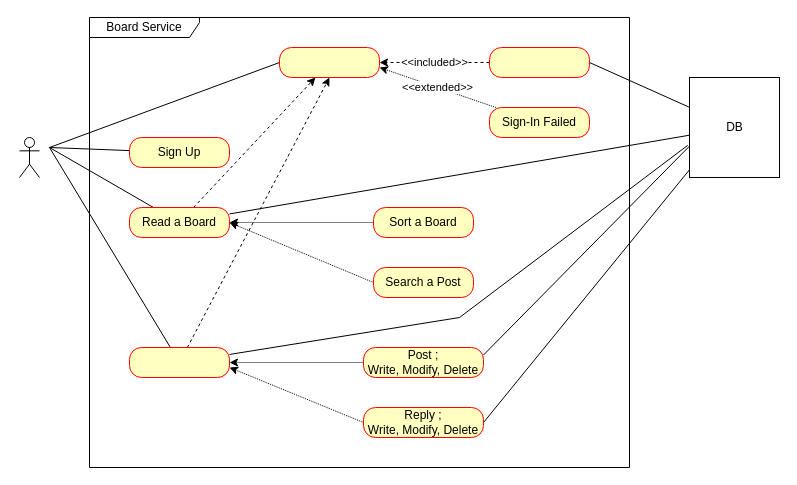
Some shapes in this 797 by 485 pixel diagram are drawn without their labels. Each missing label, with the box of its shape:
Authentication: (488, 46, 590, 78)
Read a Post: (128, 346, 230, 378)
Sign In: (278, 46, 380, 78)
User: (18, 136, 40, 178)
